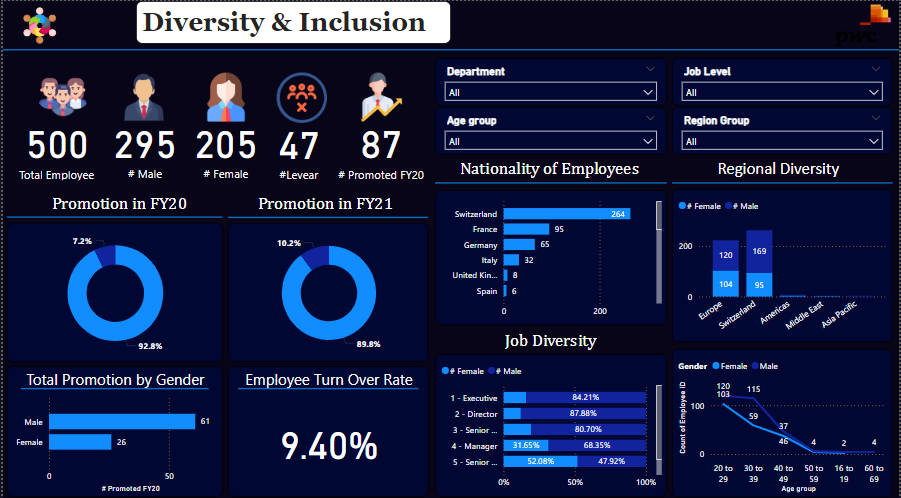

What the dashboard file says about the page in this screenshot:
{"tool":"powerbi","page":{"name":"Page 3","canvas":[1280,720],"ordinal":2},"visuals":[{"type":"textbox","box":[190,0,450,61.4],"z":0},{"type":"slicer","fields":{"Values":["Pharma.Last Department in FY20"]},"box":[617.5,81.2,331.2,67.5],"z":1000},{"type":"image","box":[22,0,61.7,70],"z":2000},{"type":"slicer","fields":{"Values":["Pharma.Job Level after FY20 promotions"]},"box":[955,81.2,315,67.5],"z":3000},{"type":"image","box":[1177.4,0,102.9,70],"z":4000},{"type":"slicer","fields":{"Values":["Pharma.Age group"]},"box":[617.5,151.2,331.2,67.5],"z":5000},{"type":"shape","box":[0,61.7,1280.3,16.5],"z":6000},{"type":"slicer","fields":{"Values":["Pharma.Broad region group: nationality 1"]},"box":[955,151.2,315,67.5],"z":7000},{"type":"image","box":[31.6,97.4,108.4,79.6],"z":8000},{"type":"image","box":[161.8,98.8,80,78.2],"z":9000},{"type":"image","box":[278,94.7,79.6,86.4],"z":10000},{"type":"image","box":[382.8,97.4,87.8,82.3],"z":11000},{"type":"image","box":[492.6,97.4,96.1,79.6],"z":12000},{"type":"card","fields":{"Values":["Pharma.# Female"]},"box":[265.5,157.8,105.7,102.9],"z":13000},{"type":"card","fields":{"Values":["CountNonNull(Pharma Group AG.Employee ID)"]},"box":[12.3,160.5,127.6,98.8],"z":14000},{"type":"card","fields":{"Values":["Pharma.# Male"]},"box":[151.3,156.4,102.9,102.9],"z":15000},{"type":"card","fields":{"Values":["Pharma.#Levear"]},"box":[382.5,160.5,79.6,100.2],"z":16000},{"type":"card","fields":{"Values":["Pharma.# Promoted FY20"]},"box":[473.4,160.5,134.5,98.8],"z":17000},{"type":"textbox","box":[64.2,268.3,230,50.8],"z":18000},{"type":"shape","box":[5.8,300,307.5,17.5],"z":19000},{"type":"textbox","box":[358.3,268.3,235.8,50],"z":20000},{"type":"shape","box":[321.7,300,285.8,18.3],"z":21000},{"type":"donutChart","fields":{"Category":["Pharma.Promotion in FY20?"],"Y":["CountNonNull(Pharma.Promotion in FY20?)"]},"box":[5.5,316.5,307.5,198.5],"z":22000},{"type":"donutChart","fields":{"Category":["Pharma.Promotion in FY21?"],"Y":["CountNonNull(Pharma.Promotion in FY21?)"]},"box":[321.4,317.1,286.4,197.9],"z":23000},{"type":"textbox","box":[647.5,218.8,301.2,51.2],"z":24000},{"type":"textbox","box":[1016.2,219.2,193.1,46.2],"z":25000},{"type":"shape","box":[617.7,251.5,330.8,16.9],"z":26000},{"type":"shape","box":[955.4,251.5,315.4,16.9],"z":27000},{"type":"clusteredBarChart","fields":{"Category":["Pharma.Nationality 1"],"Y":["CountNonNull(Pharma.Nationality 1)"]},"box":[616.9,270,331.2,193.1],"z":28000},{"type":"columnChart","fields":{"Category":["Pharma.Region group: nationality 1"],"Y":["Pharma.# Female","Pharma.# Male"]},"box":[955,268.8,315,218.8],"z":29000},{"type":"clusteredBarChart","title":"Total Promotion by Gender","fields":{"Category":["Pharma.Gender"],"Y":["Pharma.# Promoted FY20"]},"box":[5.5,521.5,307.5,187],"z":30000},{"type":"card","title":"Employee Turn Over Rate","fields":{"Values":["Pharma.#Employee Turnover"]},"box":[321.5,521.5,286.5,187],"z":31000},{"type":"shape","box":[25.5,545.5,268,16],"z":32000},{"type":"shape","box":[335.5,545.5,257.5,16],"z":33000},{"type":"hundredPercentStackedBarChart","fields":{"Category":["Pharma.Job Level after FY21 promotions"],"Y":["Pharma.# Female","Pharma.# Male"]},"box":[616.9,504.4,331.2,203.8],"z":34000},{"type":"lineChart","fields":{"Category":["Pharma.Age group"],"Y":["CountNonNull(Pharma.Employee ID)"],"Series":["Pharma.Gender"]},"box":[955,497,315,212],"z":35000},{"type":"textbox","box":[711.2,463.8,170,46.2],"z":36000}]}

Visuals, with their boxes in screenshot pixels (x1, y1, x2, y2), scaled from the page's 1280x720 canvas onto the 901x498 screenshot:
textbox: detection(134, 0, 450, 42)
slicer - Pharma.Last Department in FY20: detection(435, 56, 668, 103)
image: detection(15, 0, 59, 48)
slicer - Pharma.Job Level after FY20 promotions: detection(672, 56, 894, 103)
image: detection(829, 0, 900, 48)
slicer - Pharma.Age group: detection(435, 105, 668, 151)
shape: detection(0, 43, 900, 54)
slicer - Pharma.Broad region group: nationality 1: detection(672, 105, 894, 151)
image: detection(22, 67, 99, 122)
image: detection(114, 68, 170, 122)
image: detection(196, 66, 252, 125)
image: detection(269, 67, 331, 124)
image: detection(347, 67, 414, 122)
card - Pharma.# Female: detection(187, 109, 261, 180)
card - CountNonNull(Pharma Group AG.Employee ID): detection(9, 111, 98, 179)
card - Pharma.# Male: detection(107, 108, 179, 179)
card - Pharma.#Levear: detection(269, 111, 325, 180)
card - Pharma.# Promoted FY20: detection(333, 111, 428, 179)
textbox: detection(45, 186, 207, 221)
shape: detection(4, 208, 221, 220)
textbox: detection(252, 186, 418, 220)
shape: detection(226, 208, 428, 220)
donutChart - Pharma.Promotion in FY20? x CountNonNull(Pharma.Promotion in FY20?): detection(4, 219, 220, 356)
donutChart - Pharma.Promotion in FY21? x CountNonNull(Pharma.Promotion in FY21?): detection(226, 219, 428, 356)
textbox: detection(456, 151, 668, 187)
textbox: detection(715, 152, 851, 184)
shape: detection(435, 174, 668, 186)
shape: detection(673, 174, 895, 186)
clusteredBarChart - Pharma.Nationality 1 x CountNonNull(Pharma.Nationality 1): detection(434, 187, 667, 320)
columnChart - Pharma.Region group: nationality 1 x Pharma.# Female: detection(672, 186, 894, 337)
"Total Promotion by Gender" clusteredBarChart: detection(4, 361, 220, 490)
"Employee Turn Over Rate" card: detection(226, 361, 428, 490)
shape: detection(18, 377, 207, 388)
shape: detection(236, 377, 417, 388)
hundredPercentStackedBarChart - Pharma.Job Level after FY21 promotions x Pharma.# Female: detection(434, 349, 667, 490)
lineChart - Pharma.Age group x CountNonNull(Pharma.Employee ID): detection(672, 344, 894, 490)
textbox: detection(501, 321, 620, 353)
